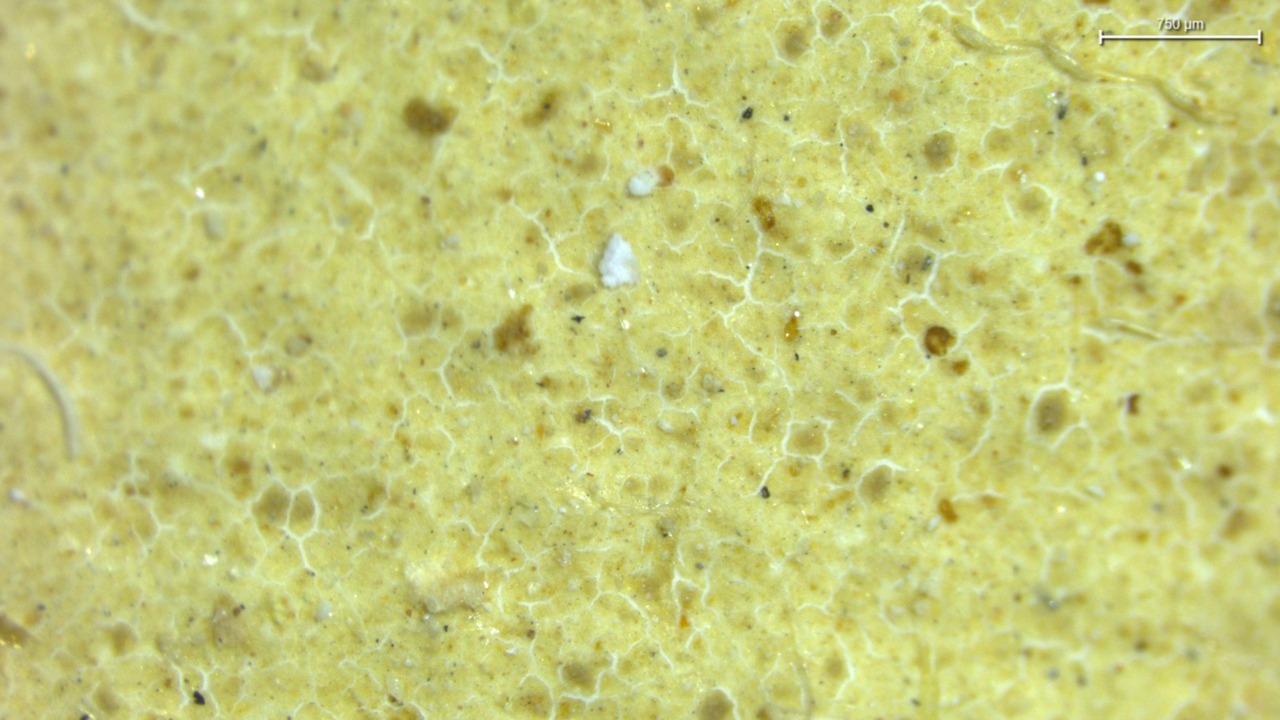microplastic_fragment: (598, 233, 639, 288), (628, 169, 659, 196)
